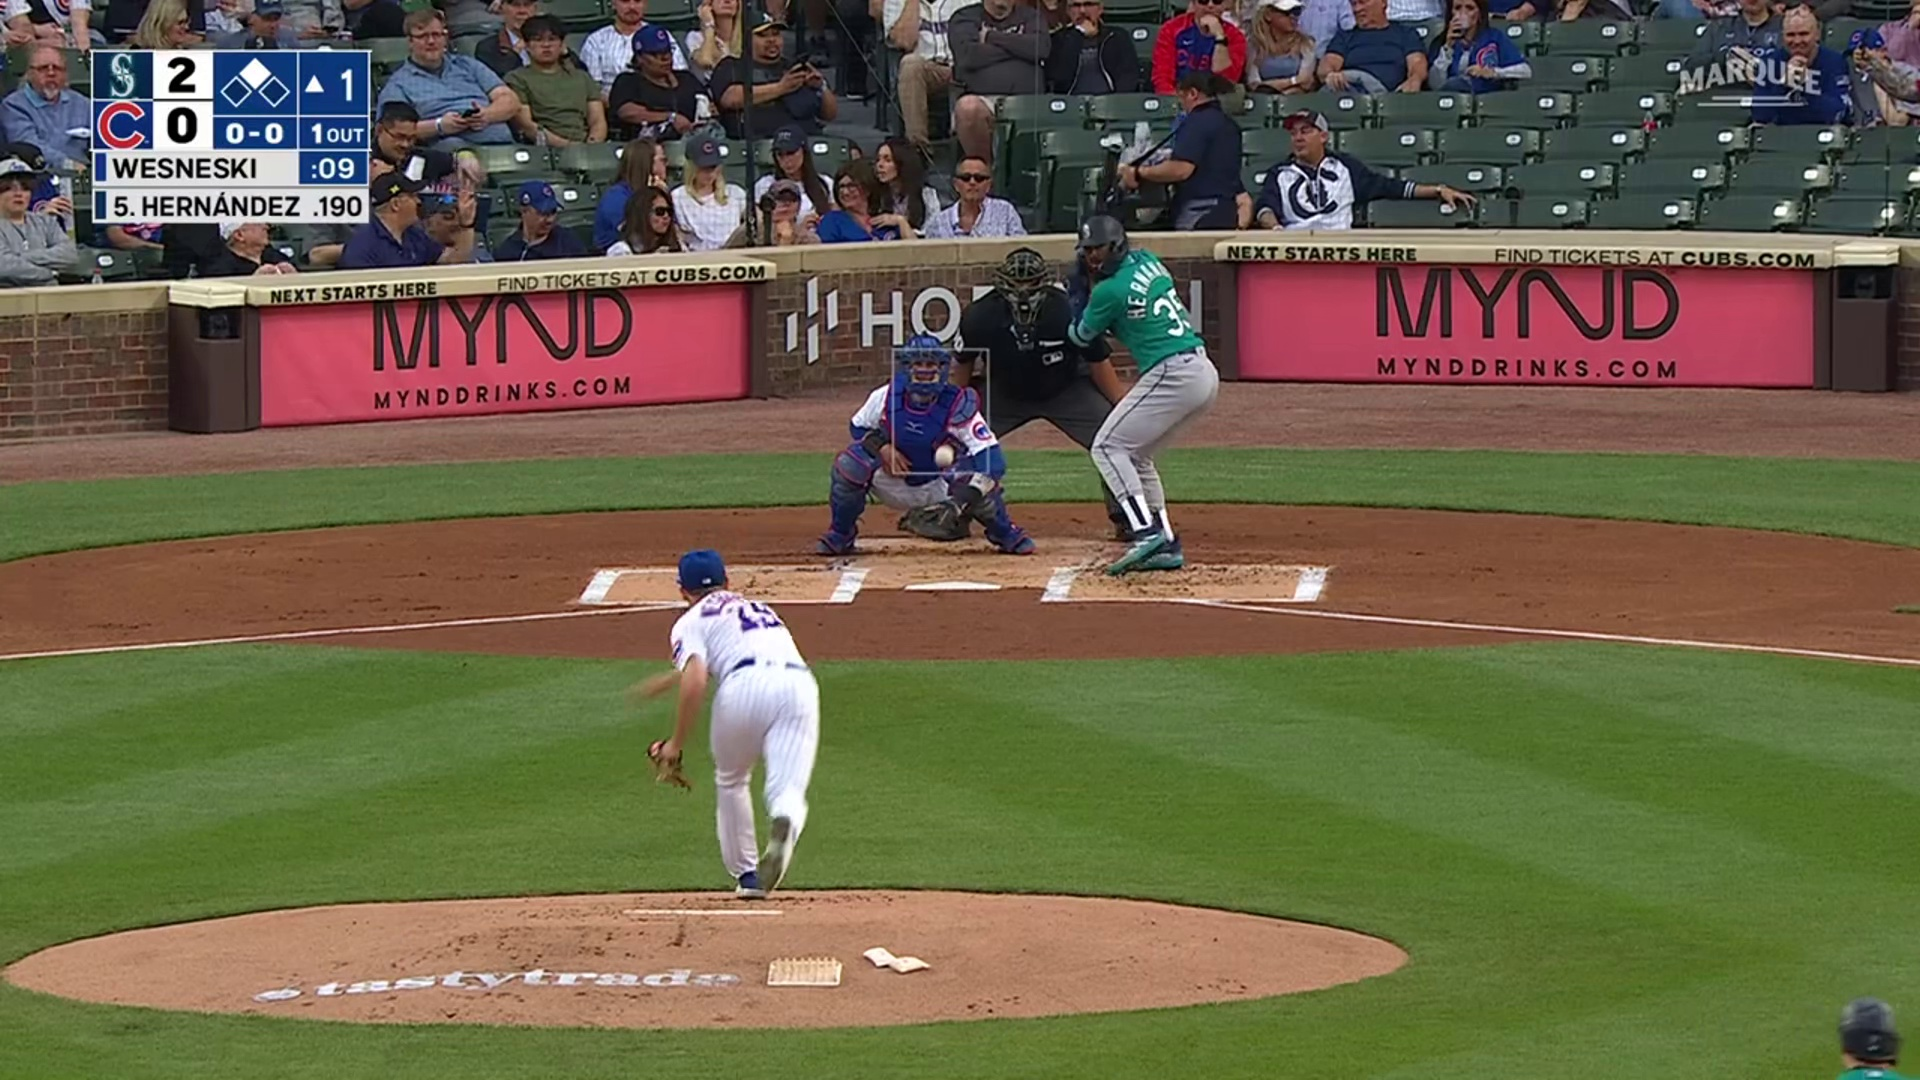baseball: (934, 444, 953, 465)
